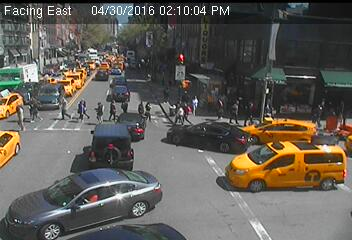neg: (53, 147, 81, 185), (309, 152, 336, 188), (228, 159, 255, 194), (100, 152, 125, 186), (146, 137, 170, 168), (12, 137, 34, 165), (198, 180, 219, 208), (172, 57, 191, 83), (269, 201, 288, 227), (144, 200, 162, 225), (256, 27, 273, 49), (18, 195, 34, 217), (240, 53, 255, 73), (33, 34, 47, 54), (62, 41, 76, 59), (298, 43, 311, 61), (135, 45, 147, 61), (100, 50, 112, 66), (285, 80, 296, 95)
pos: (9, 105, 29, 132), (73, 96, 92, 122), (142, 101, 161, 126), (246, 100, 264, 125), (312, 103, 330, 127), (49, 95, 66, 119), (91, 98, 108, 120), (212, 98, 228, 120), (105, 96, 121, 117), (231, 102, 245, 122), (26, 100, 40, 119), (118, 95, 132, 114), (171, 103, 185, 122), (132, 99, 146, 117), (186, 92, 199, 108), (182, 100, 194, 116), (161, 85, 173, 101)
